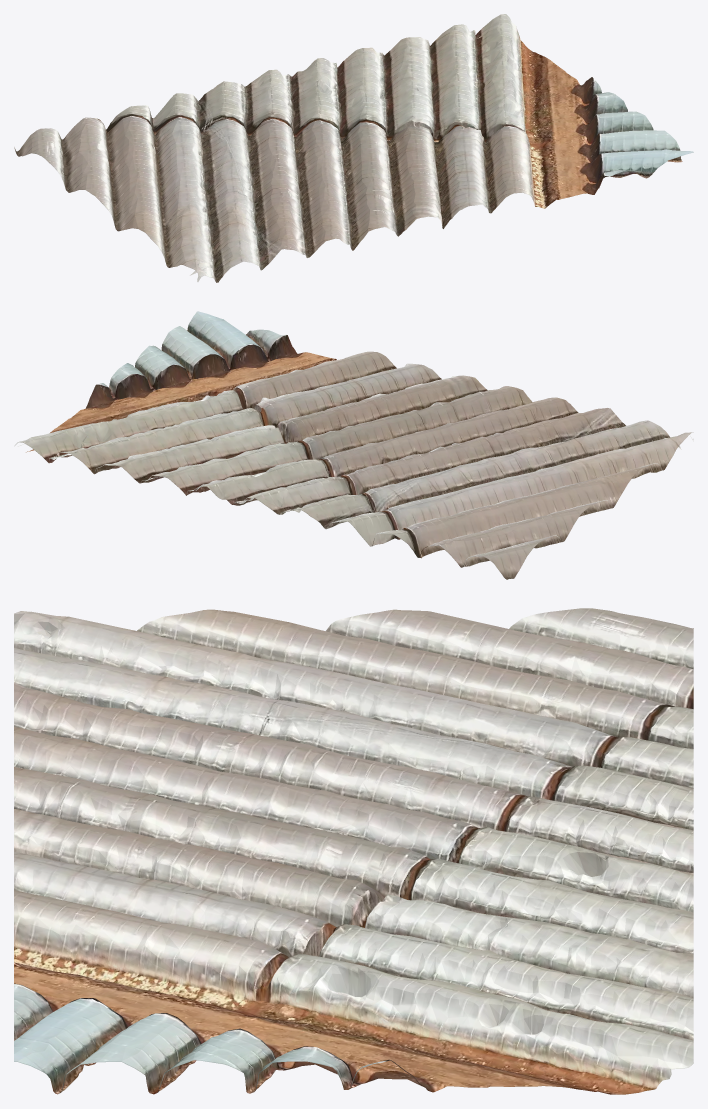
The model's file is BlockBB_L19_12.glb.
3 renders of one model, top to bottom at view 1: azimuth 30°, elevation 25°; view 2: azimuth 150°, elevation 25°; view 3: azimuth 270°, elevation 25°, orthographic. The views are drawn at different scales.
Parts seen in each view (by area): view 1: rtc; view 2: rtc; view 3: rtc.
Boxes of the visible parts, x1,y1,x2,y2 form: rtc: (14,14,693,282); rtc: (14,311,693,579); rtc: (14,608,693,1094).
Bounding box in the file's own units: 64.93 × 3.39 × 41.65.
4 materials, 4 textured.
